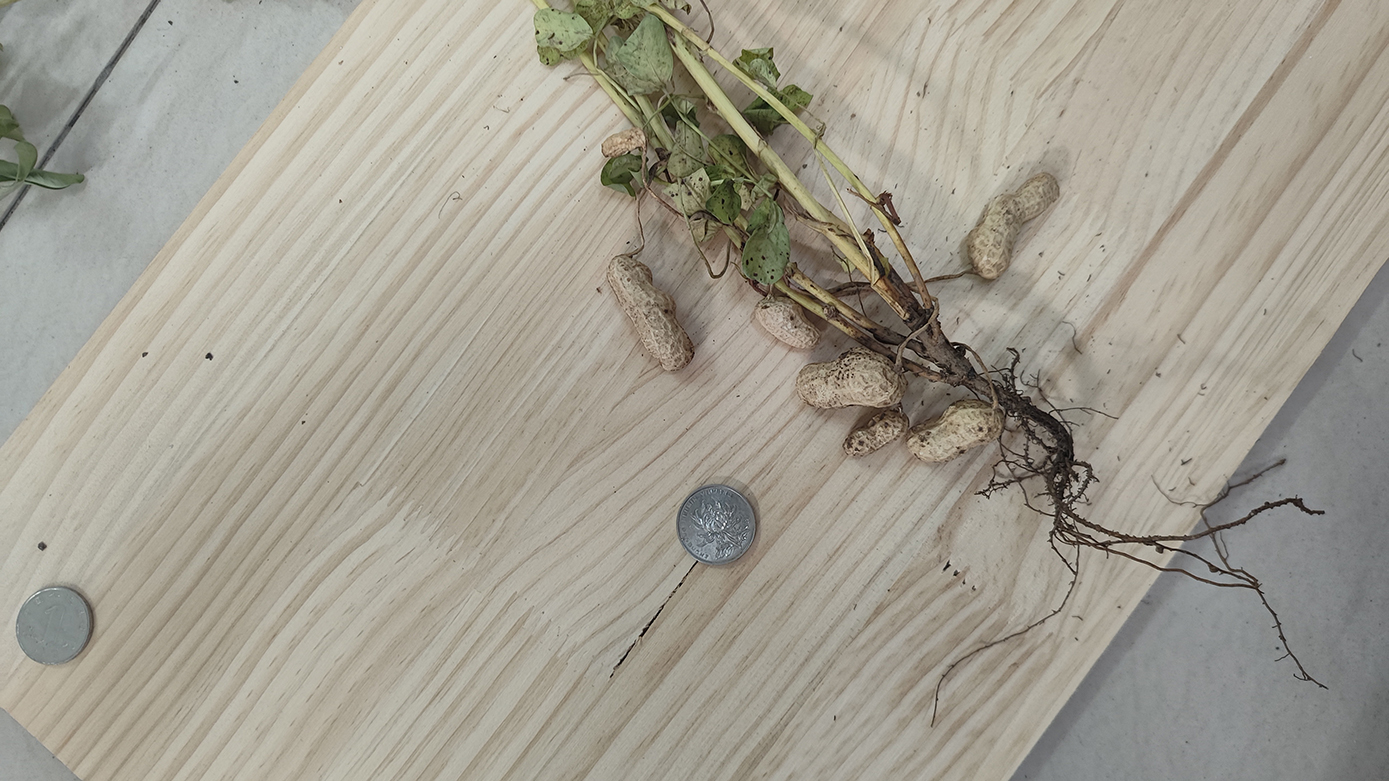h: (967, 170, 1060, 281), (606, 257, 694, 372), (907, 397, 1007, 465), (796, 350, 907, 411), (755, 294, 821, 350), (842, 410, 908, 457)
l: (600, 127, 646, 157)
